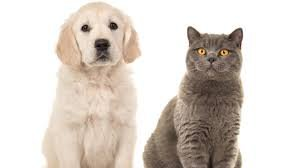cat: (152, 20, 262, 168)
dog: (48, 1, 145, 168)
